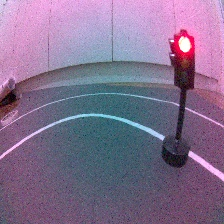red: (161, 26, 200, 173)
